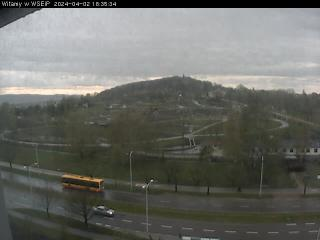bus: (62, 172, 105, 192)
car: (92, 204, 115, 217)
